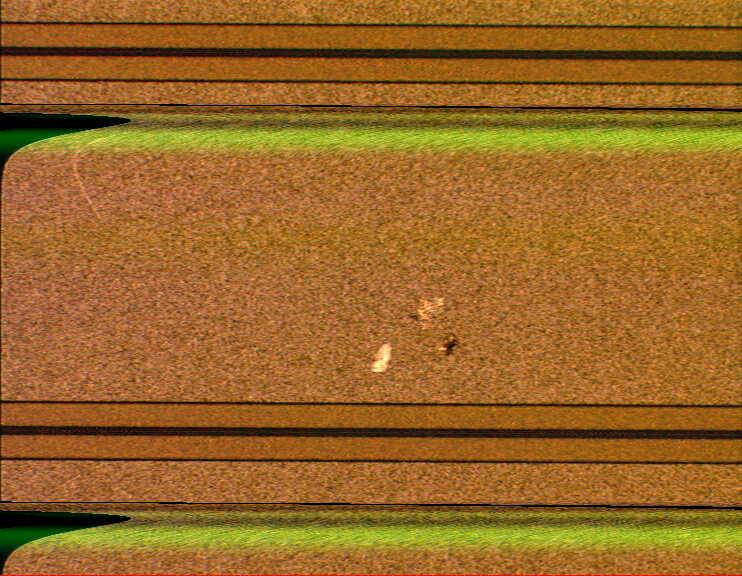SCRATCH: (359, 292, 478, 376)
